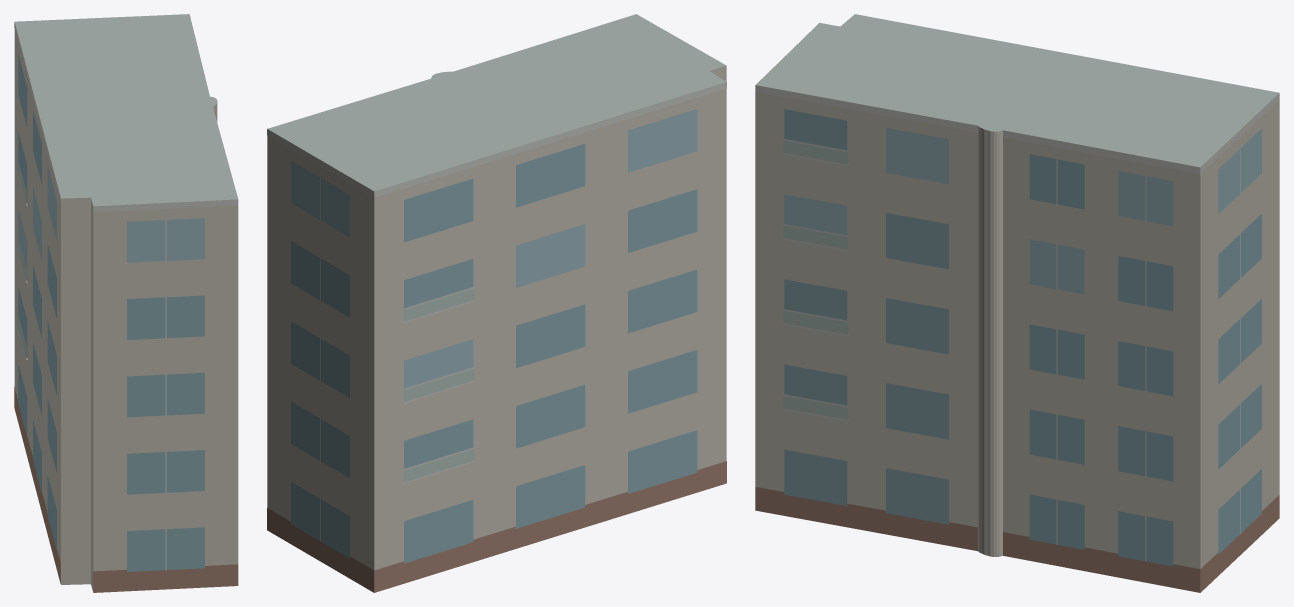
Rendered from survey-upis-32902321.glb.
The picture shows the model from 3 angles, left to right: view 1: azimuth 30°, elevation 25°; view 2: azimuth 150°, elevation 25°; view 3: azimuth 270°, elevation 25°; orthographic projection. The views are drawn at different scales.
Visible parts, largest first — view 1: survey-upis-32902321.tmp; view 2: survey-upis-32902321.tmp; view 3: survey-upis-32902321.tmp.
Boxes of the visible parts, left/top/right/bottom form: survey-upis-32902321.tmp: left=14, top=14, right=238, bottom=592; survey-upis-32902321.tmp: left=267, top=14, right=726, bottom=592; survey-upis-32902321.tmp: left=755, top=14, right=1279, bottom=592.
Size of the model in its own units: 11.8 by 15.25 by 17.04.
